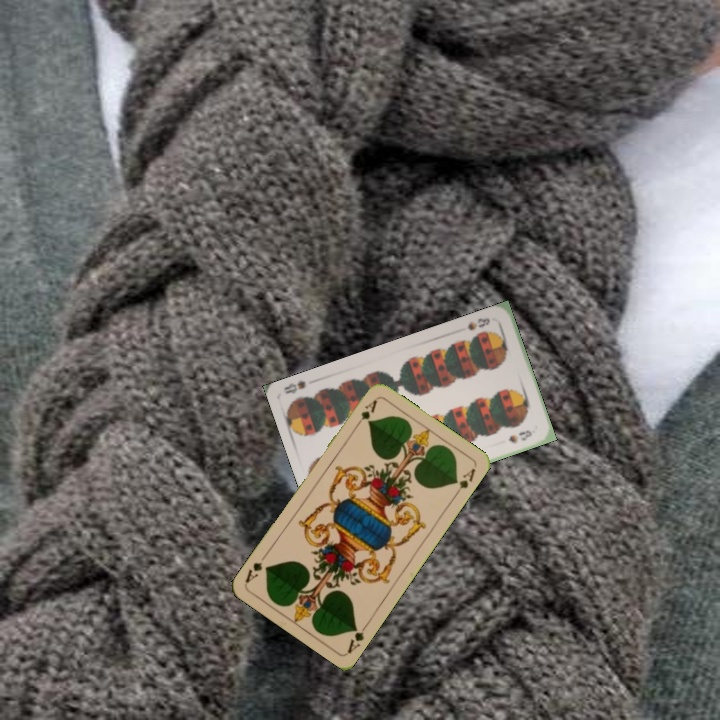GA: (343, 619, 371, 656), (351, 396, 380, 431)
S8: (463, 314, 493, 333)
